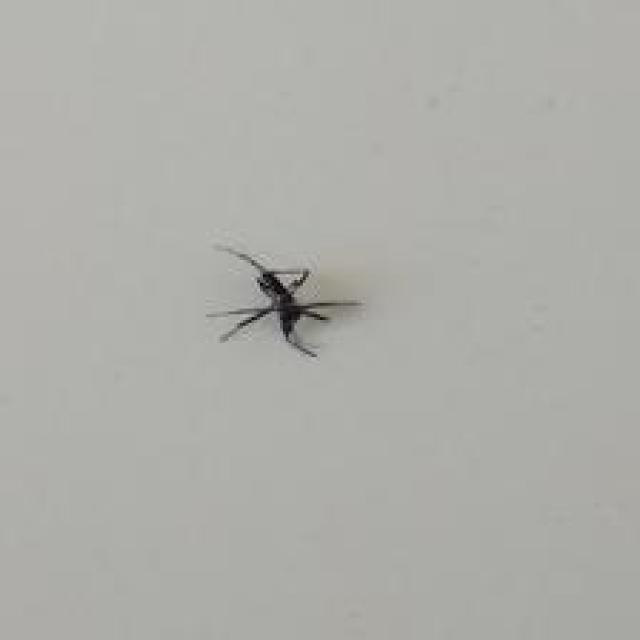Aedes albopictus: (206, 242, 363, 358)
